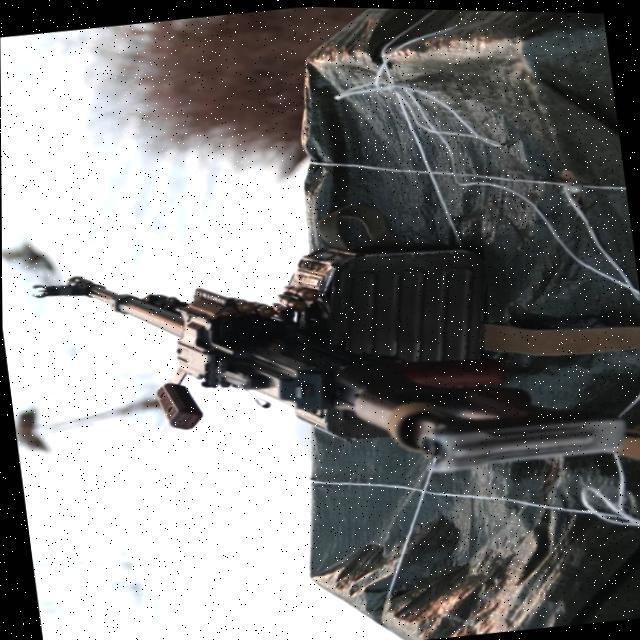firearm: (26, 210, 620, 521)
